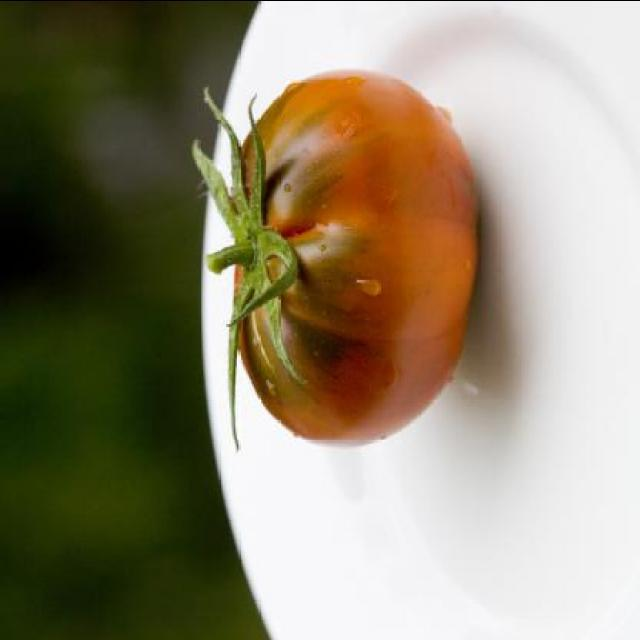Tomato: (200, 64, 483, 456)
